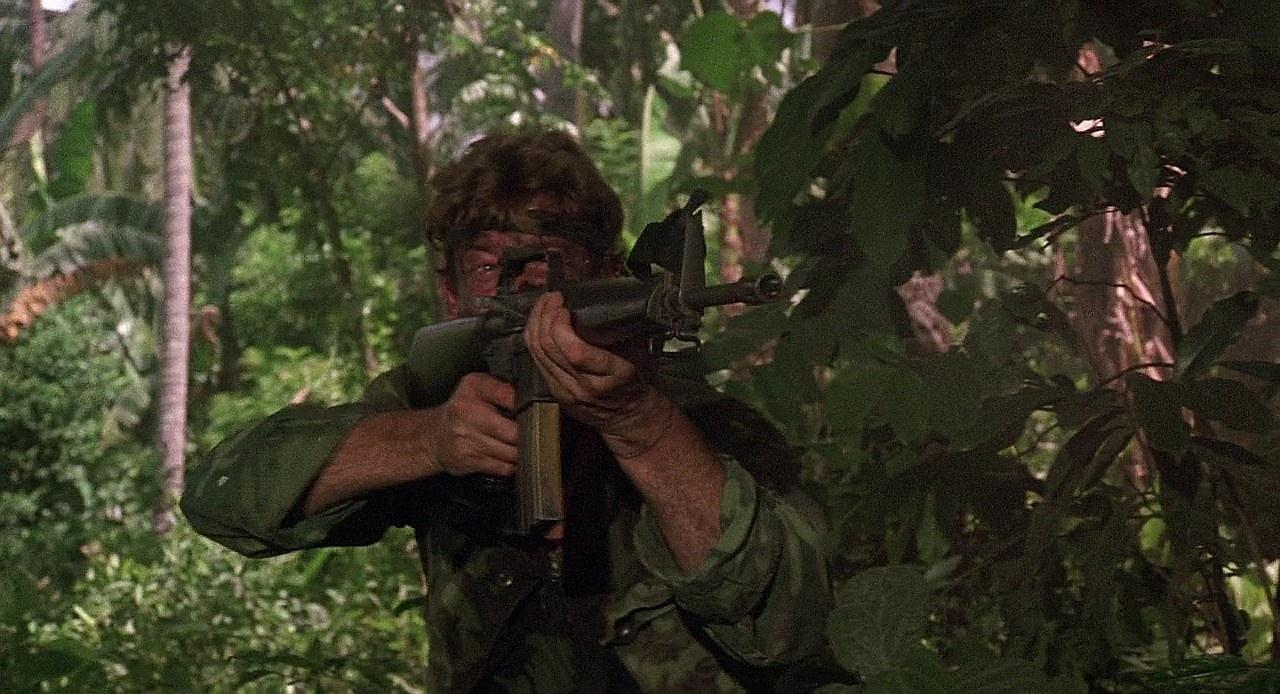gun: (390, 259, 804, 534)
